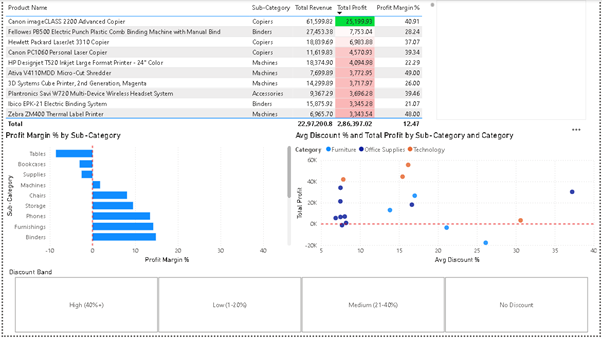

The dashboard page shown, as its layout file describes it:
{"tool":"powerbi","page":{"name":"Product Deep-Dive","canvas":[1280,720],"ordinal":1},"visuals":[{"type":"tableEx","fields":{"Values":["Orders.Product Name","Orders.Sub-Category","_Measures.Total Revenue","_Measures.Total Profit","_Measures.Profit Margin %"]},"box":[0,0,931.7,280],"z":0},{"type":"clusteredBarChart","fields":{"Category":["Orders.Sub-Category"],"Y":["_Measures.Profit Margin %"]},"box":[0,280,623.3,290],"z":1000},{"type":"scatterChart","fields":{"X":["_Measures.Avg Discount %"],"Y":["_Measures.Total Profit"],"Category":["Orders.Sub-Category"],"Series":["Orders.Category"]},"box":[623.3,280,656.7,290],"z":2000},{"type":"slicer","fields":{"Values":["Orders.Discount Band"]},"box":[0,570,1280,150],"z":3000},{"type":"textbox","box":[931.7,0,320,256.7],"z":4000}]}

Visuals, with their boxes in screenshot pixels (x1, y1, x2, y2), scaled from the page's 1280x720 canvas onto the 602x338 screenshot:
tableEx - Orders.Product Name x Orders.Sub-Category: [x1=0, y1=0, x2=438, y2=131]
clusteredBarChart - Orders.Sub-Category x _Measures.Profit Margin %: [x1=0, y1=131, x2=293, y2=268]
scatterChart - _Measures.Avg Discount % x _Measures.Total Profit: [x1=293, y1=131, x2=601, y2=268]
slicer - Orders.Discount Band: [x1=0, y1=268, x2=601, y2=337]
textbox: [x1=438, y1=0, x2=589, y2=121]
